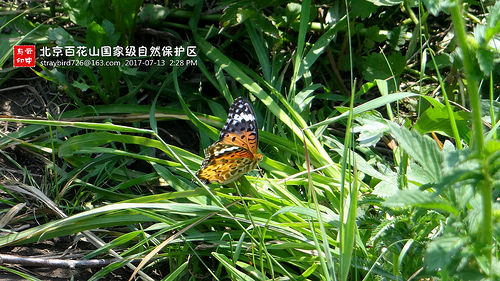Argyreus hyperbius: (191, 94, 266, 184)
butterfly: (193, 96, 268, 186)
